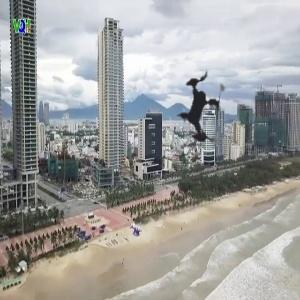drone: (144, 51, 258, 165)
